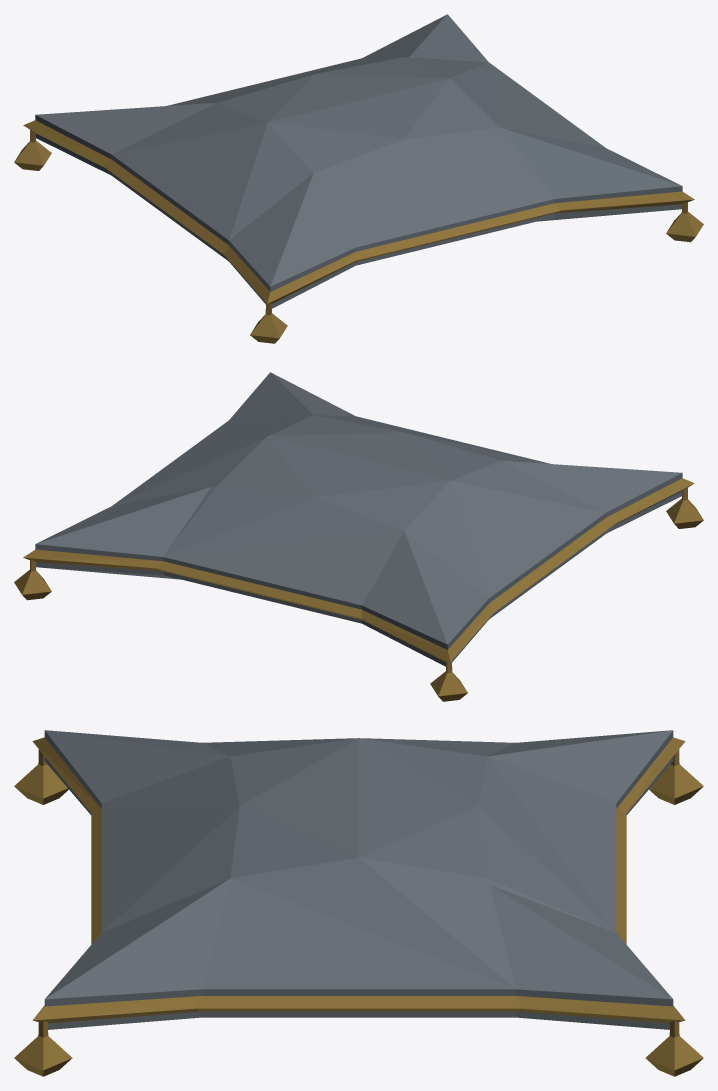
File: WM_DisplayCushion.fbx
3 renders of one model, top to bottom at view 1: azimuth 30°, elevation 25°; view 2: azimuth 150°, elevation 25°; view 3: azimuth 270°, elevation 25°, orthographic. The views are drawn at different scales.
Visible parts, largest first — view 1: Cube_40; view 2: Cube_40; view 3: Cube_40.
Part boxes in pixels (x1,y1,x2,y2): Cube_40: (14,14,703,343); Cube_40: (14,372,703,701); Cube_40: (14,730,703,1076).
Bounding box in the file's own units: 3.72 × 0.8757 × 3.66.
